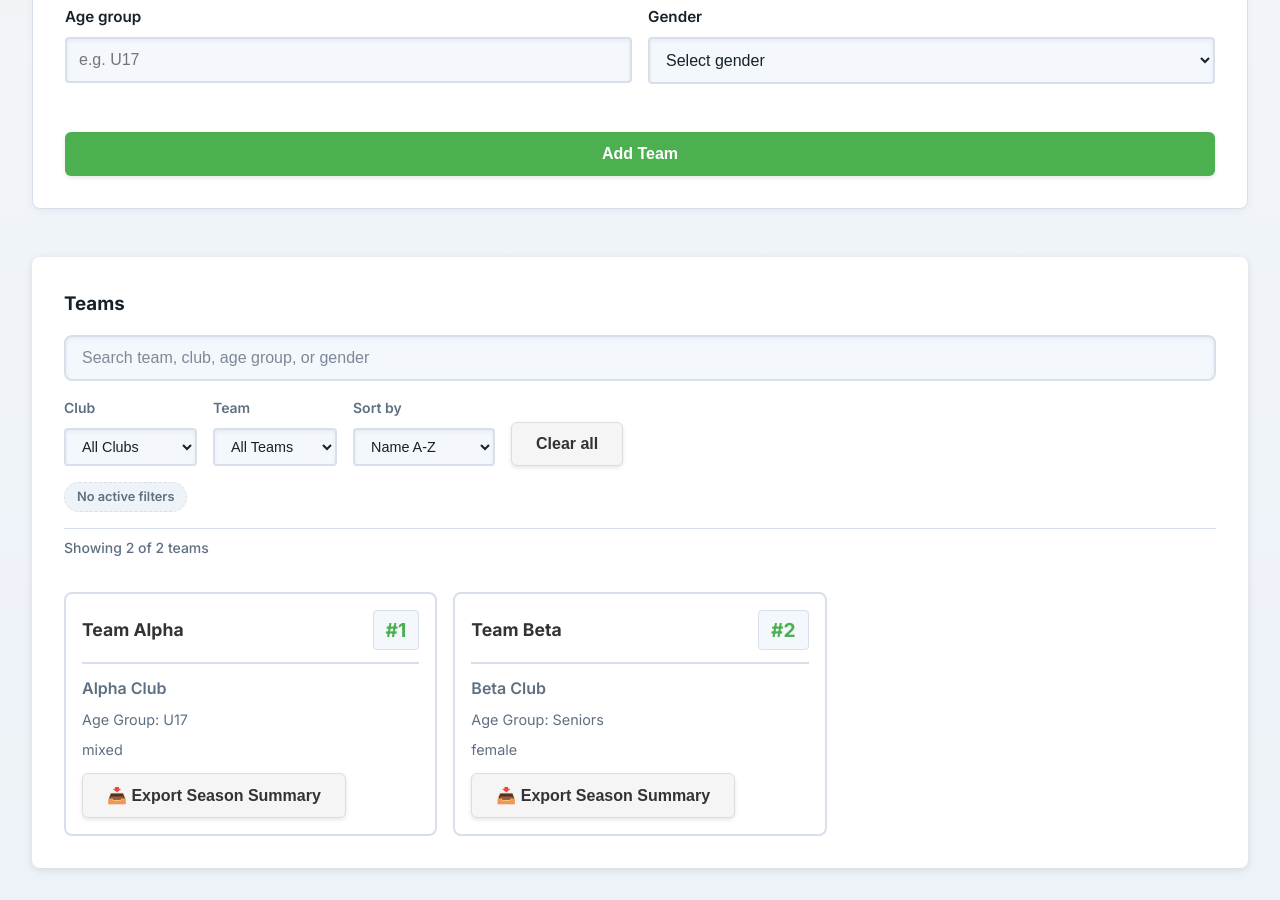
Test: Team Management: Create, edit, and export › opens the export dialog for a team
(page scrolled)
Click the button "📥 Export Season Summary" below "mixed".
click(214, 796)  # box [82, 773, 346, 818]
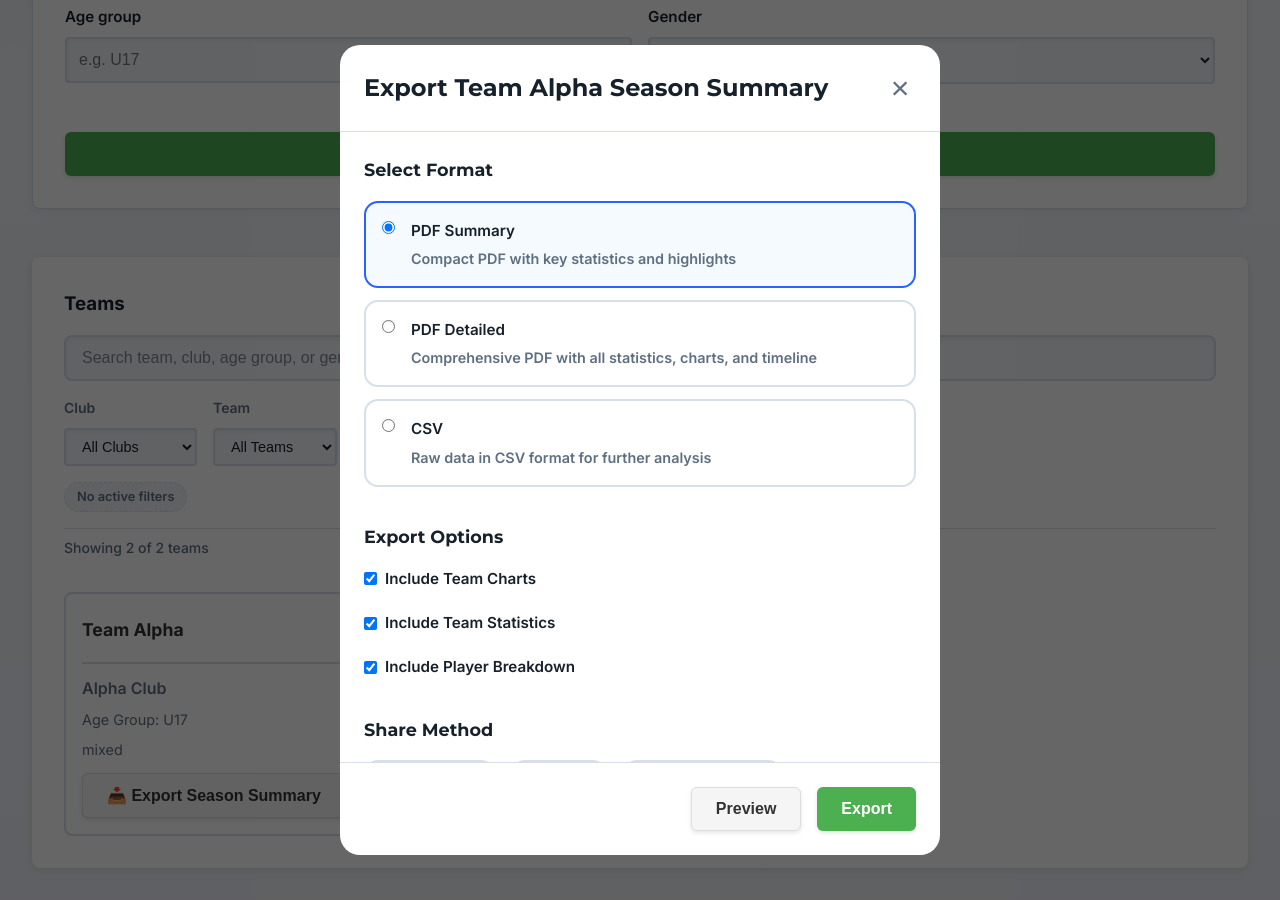
Result: the heading "Export Team Alpha Season Summary" is shown at [364, 69, 828, 107]
Result: the heading "Select Format" is shown at [364, 159, 493, 180]
Click the button named "Close dialog".
click(900, 88)  # box [884, 72, 916, 104]
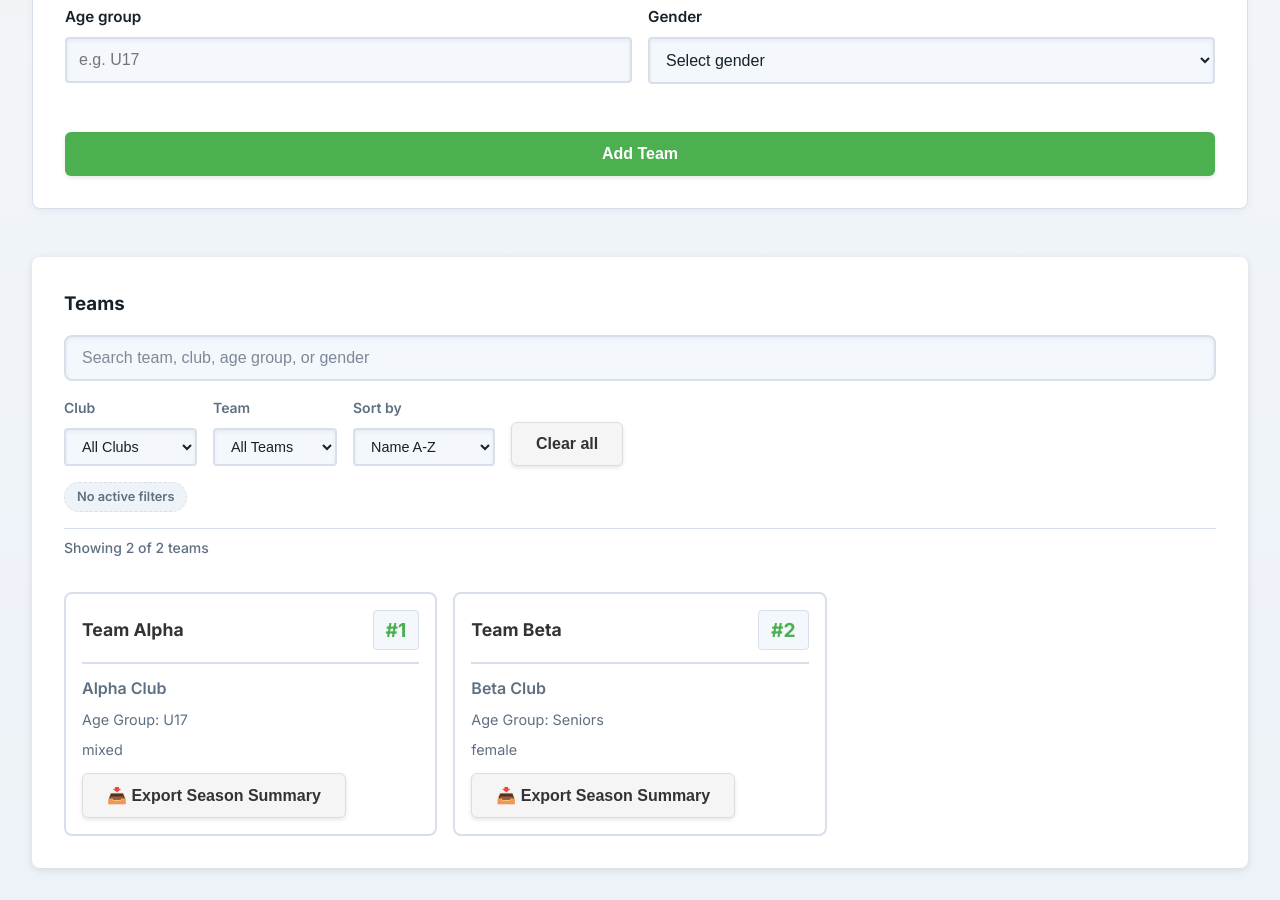
Result: the heading "Export Team Alpha Season Summary" is gone
